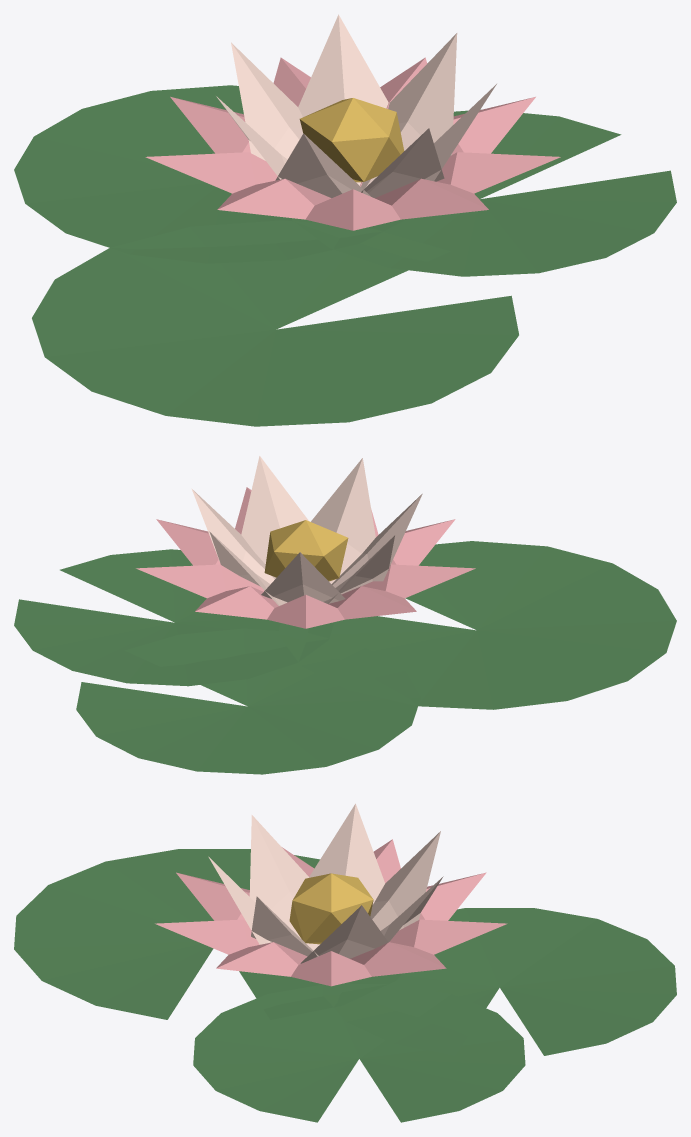
Rendered from SM_Lotus.fbx.
The picture shows the model from 3 angles, top to bottom: view 1: azimuth 30°, elevation 25°; view 2: azimuth 150°, elevation 25°; view 3: azimuth 270°, elevation 25°; orthographic projection. The views are drawn at different scales.
Parts seen in each view (by area): view 1: SM_Lotus; view 2: SM_Lotus; view 3: SM_Lotus.
Boxes of the visible parts, x1,y1,x2,y2 form: SM_Lotus: (14, 14, 676, 426); SM_Lotus: (14, 456, 676, 774); SM_Lotus: (14, 803, 676, 1122).
Bounding box in the file's own units: 1.15 × 1.18 × 0.285.
